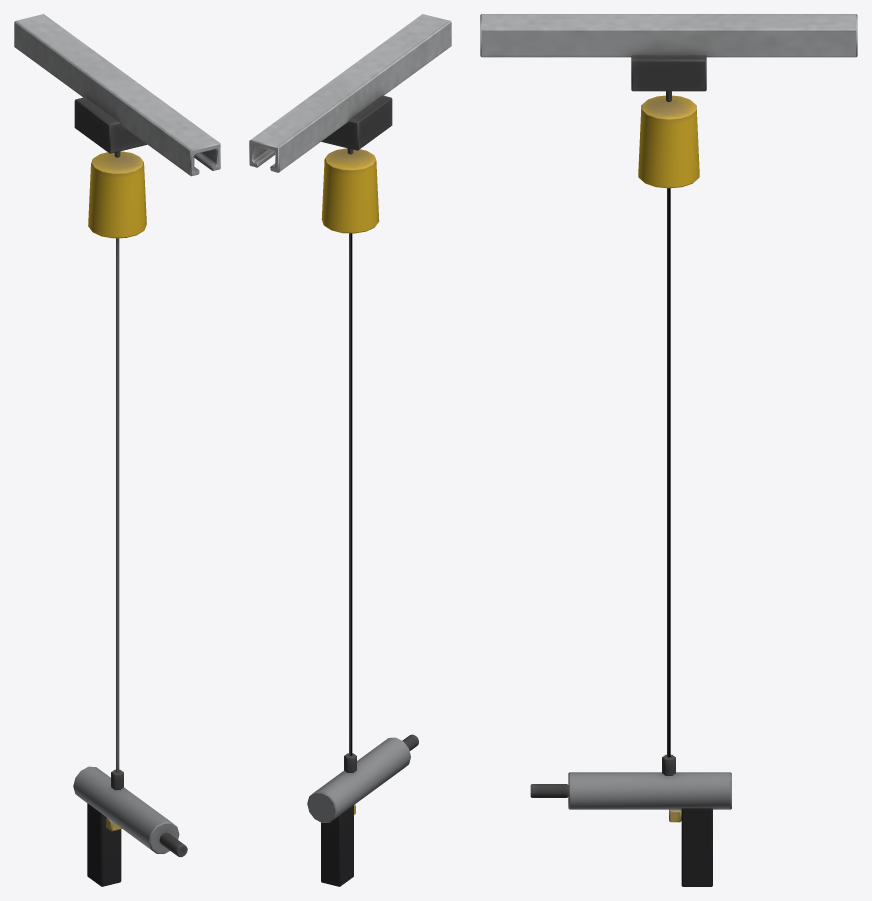
Rendered from ToolBalancer.fbx.
3 views of the same model, side by side, from view 1: azimuth 30°, elevation 25°; view 2: azimuth 150°, elevation 25°; view 3: azimuth 270°, elevation 25° (orthographic). The views are drawn at different scales.
Parts seen in each view (by area): view 1: ToolBalancer_LOD0, Tool_LOD0, Cable_LOD0; view 2: ToolBalancer_LOD0, Tool_LOD0, Cable_LOD0; view 3: ToolBalancer_LOD0, Tool_LOD0, Cable_LOD0.
Boxes of the visible parts, left/top/right/bottom form: ToolBalancer_LOD0: left=14, top=14, right=220, bottom=238; Tool_LOD0: left=73, top=766, right=187, bottom=886; Cable_LOD0: left=116, top=238, right=119, bottom=772; ToolBalancer_LOD0: left=249, top=14, right=451, bottom=233; Tool_LOD0: left=307, top=734, right=418, bottom=886; Cable_LOD0: left=349, top=233, right=352, bottom=755; ToolBalancer_LOD0: left=480, top=14, right=857, bottom=188; Tool_LOD0: left=530, top=754, right=731, bottom=886; Cable_LOD0: left=667, top=188, right=670, bottom=757.
Size of what is drawn, in the model's own units: 0.1 by 1.51 by 0.6.
1 material, 1 textured.
